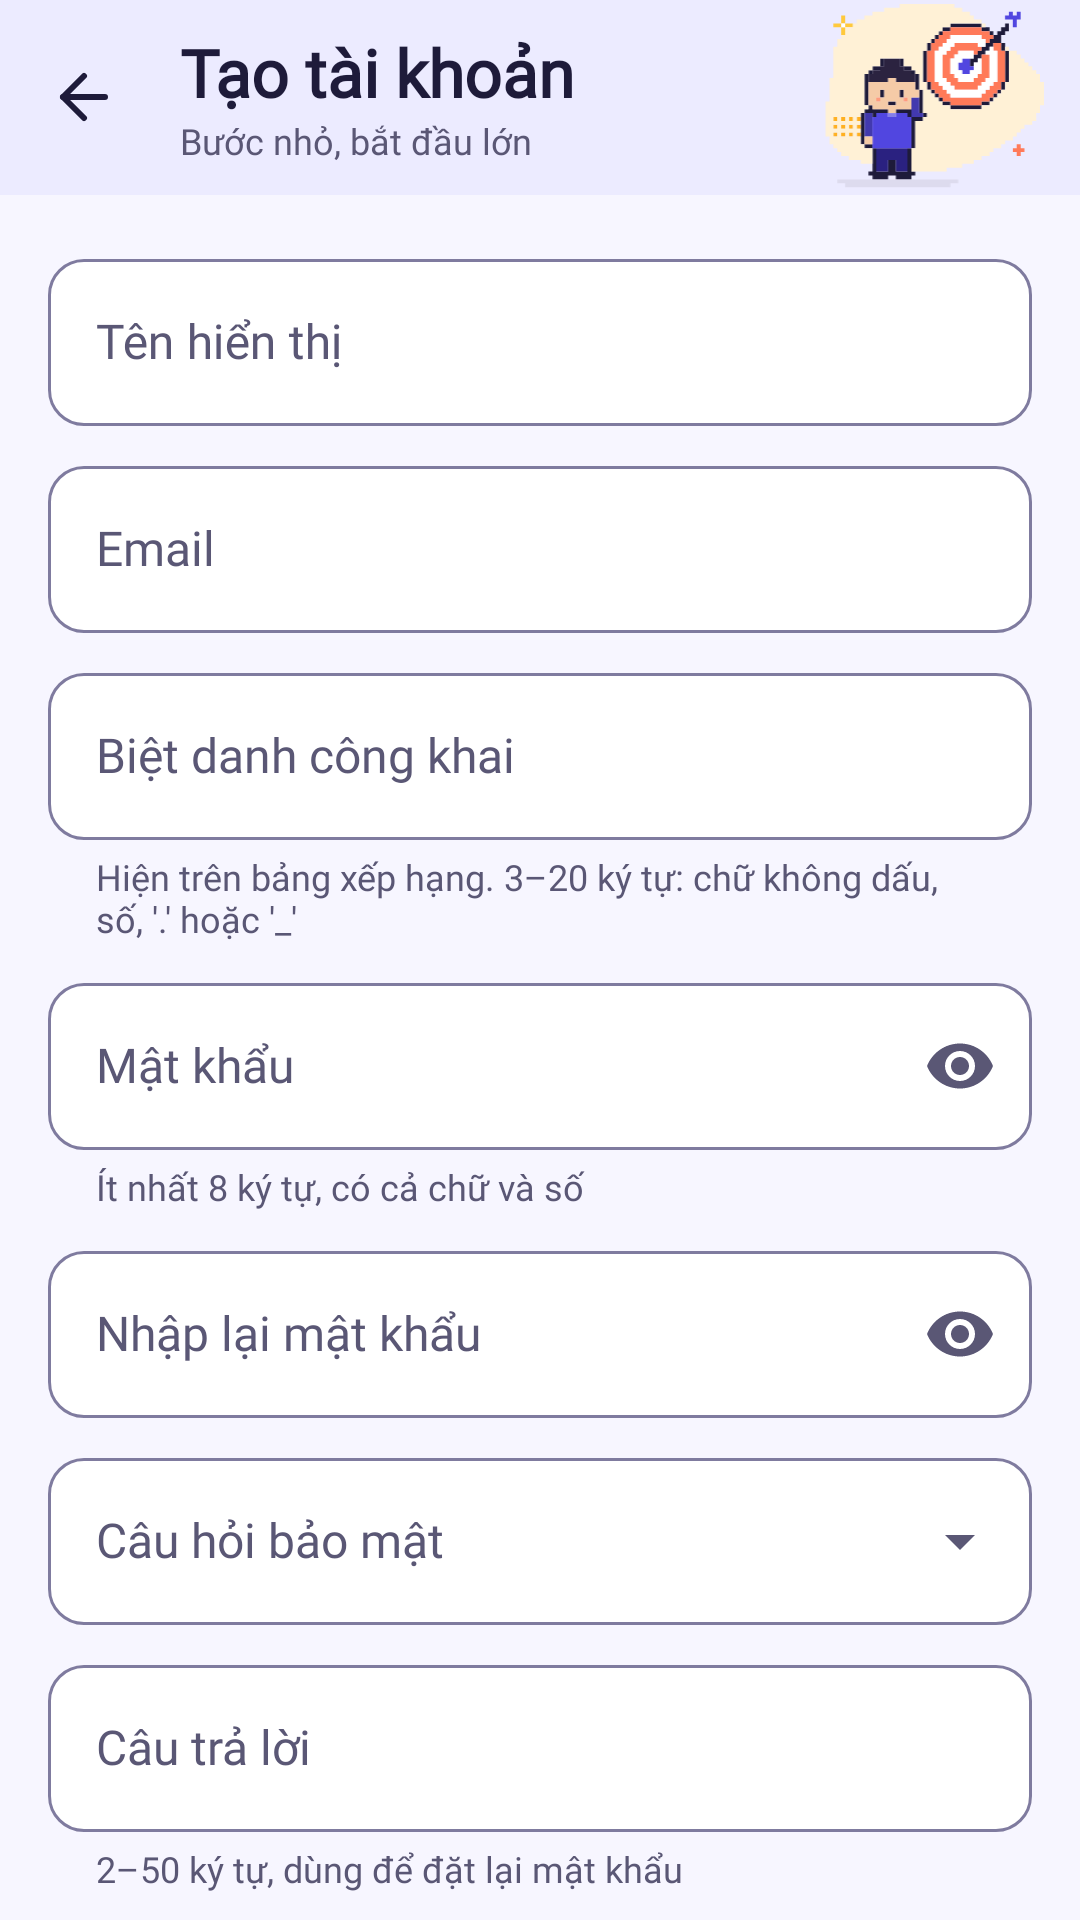

Where to tap for icons on this 1080×1920 app screen, as (x=x, y=y):
ill onboarding goal: (x=935, y=92)
